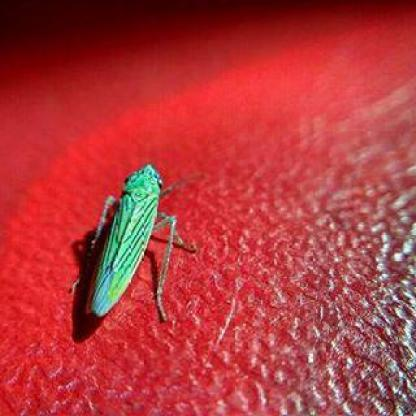green-leafhopper: (80, 160, 193, 318)
